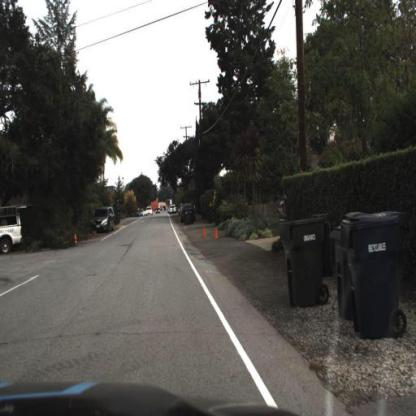car: (1, 204, 26, 261), (90, 206, 116, 237)
